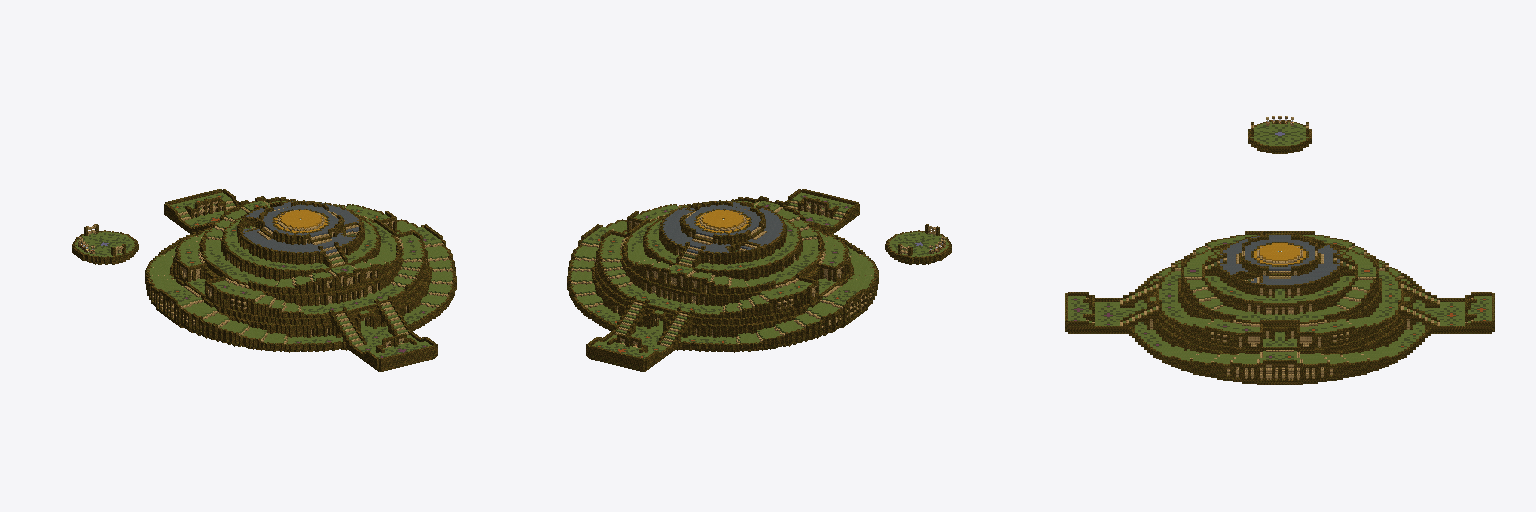
3 views of the same model, side by side, from view 1: azimuth 30°, elevation 25°; view 2: azimuth 150°, elevation 25°; view 3: azimuth 270°, elevation 25° (orthographic).
Bounding box in the file's own units: 1350 × 410 × 1410.
32 materials, 30 textured.